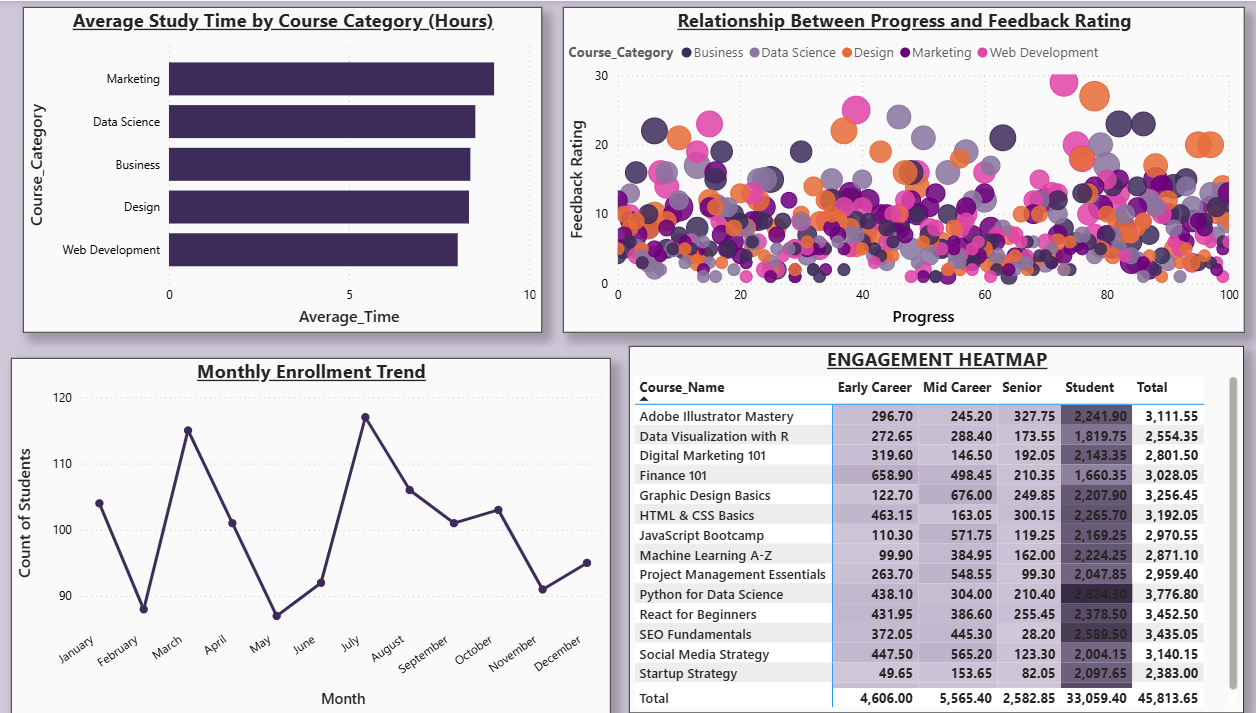

The dashboard page shown, as its layout file describes it:
{"tool":"powerbi","page":{"name":"Engagement & Learning Insights","canvas":[1280,720],"ordinal":1},"visuals":[{"type":"scatterChart","title":"Relationship Between Progress and Feedback Rating","fields":{"Size":["CountNonNull(online_course_student_data_1.Time_Cleaned)"],"Series":["online_course_student_data_1.Course_Category"],"X":["online_course_student_data_1.Cleanedprogress"],"Y":["Sum(online_course_student_data_1.Feedback_Rating)"]},"box":[572.5,6.3,688.2,328.5],"z":0},{"type":"pivotTable","title":"ENGAGEMENT HEATMAP","fields":{"Rows":["online_course_student_data_1.Course_Name"],"Columns":["online_course_student_data_1.Experience_Level"],"Values":["Sum(online_course_student_data_1.Engagement_Score)"]},"box":[639.7,348.8,621,370.7],"z":1000},{"type":"lineChart","title":"Monthly Enrollment Trend","fields":{"Y":["CountNonNull(online_course_student_data_1.Student_ID)"],"Category":["online_course_student_data_1.Enrollment_Date.Variation.Date Hierarchy.Month"]},"box":[15.6,359.8,605.3,359.8],"z":2000},{"type":"barChart","title":"Average Study Time by Course Category (Hours)","fields":{"Category":["online_course_student_data_1.Course_Category"],"Y":["online_course_student_data_1.Avg Time per Category"]},"box":[26.6,6.3,524,328.5],"z":3000},{"type":"slicer","fields":{"Values":["online_course_student_data_1.Course_Category"]},"box":[0,480,264,74],"z":3001}]}

Visuals, with their boxes in screenshot pixels (x1, y1, x2, y2), scaled from the page's 1280x720 canvas onto the 1256x713 screenshot:
"Relationship Between Progress and Feedback Rating" scatterChart: [562,6,1237,332]
"ENGAGEMENT HEATMAP" pivotTable: [628,345,1237,712]
"Monthly Enrollment Trend" lineChart: [15,356,609,712]
"Average Study Time by Course Category (Hours)" barChart: [26,6,540,332]
slicer - online_course_student_data_1.Course_Category: [0,475,259,549]
